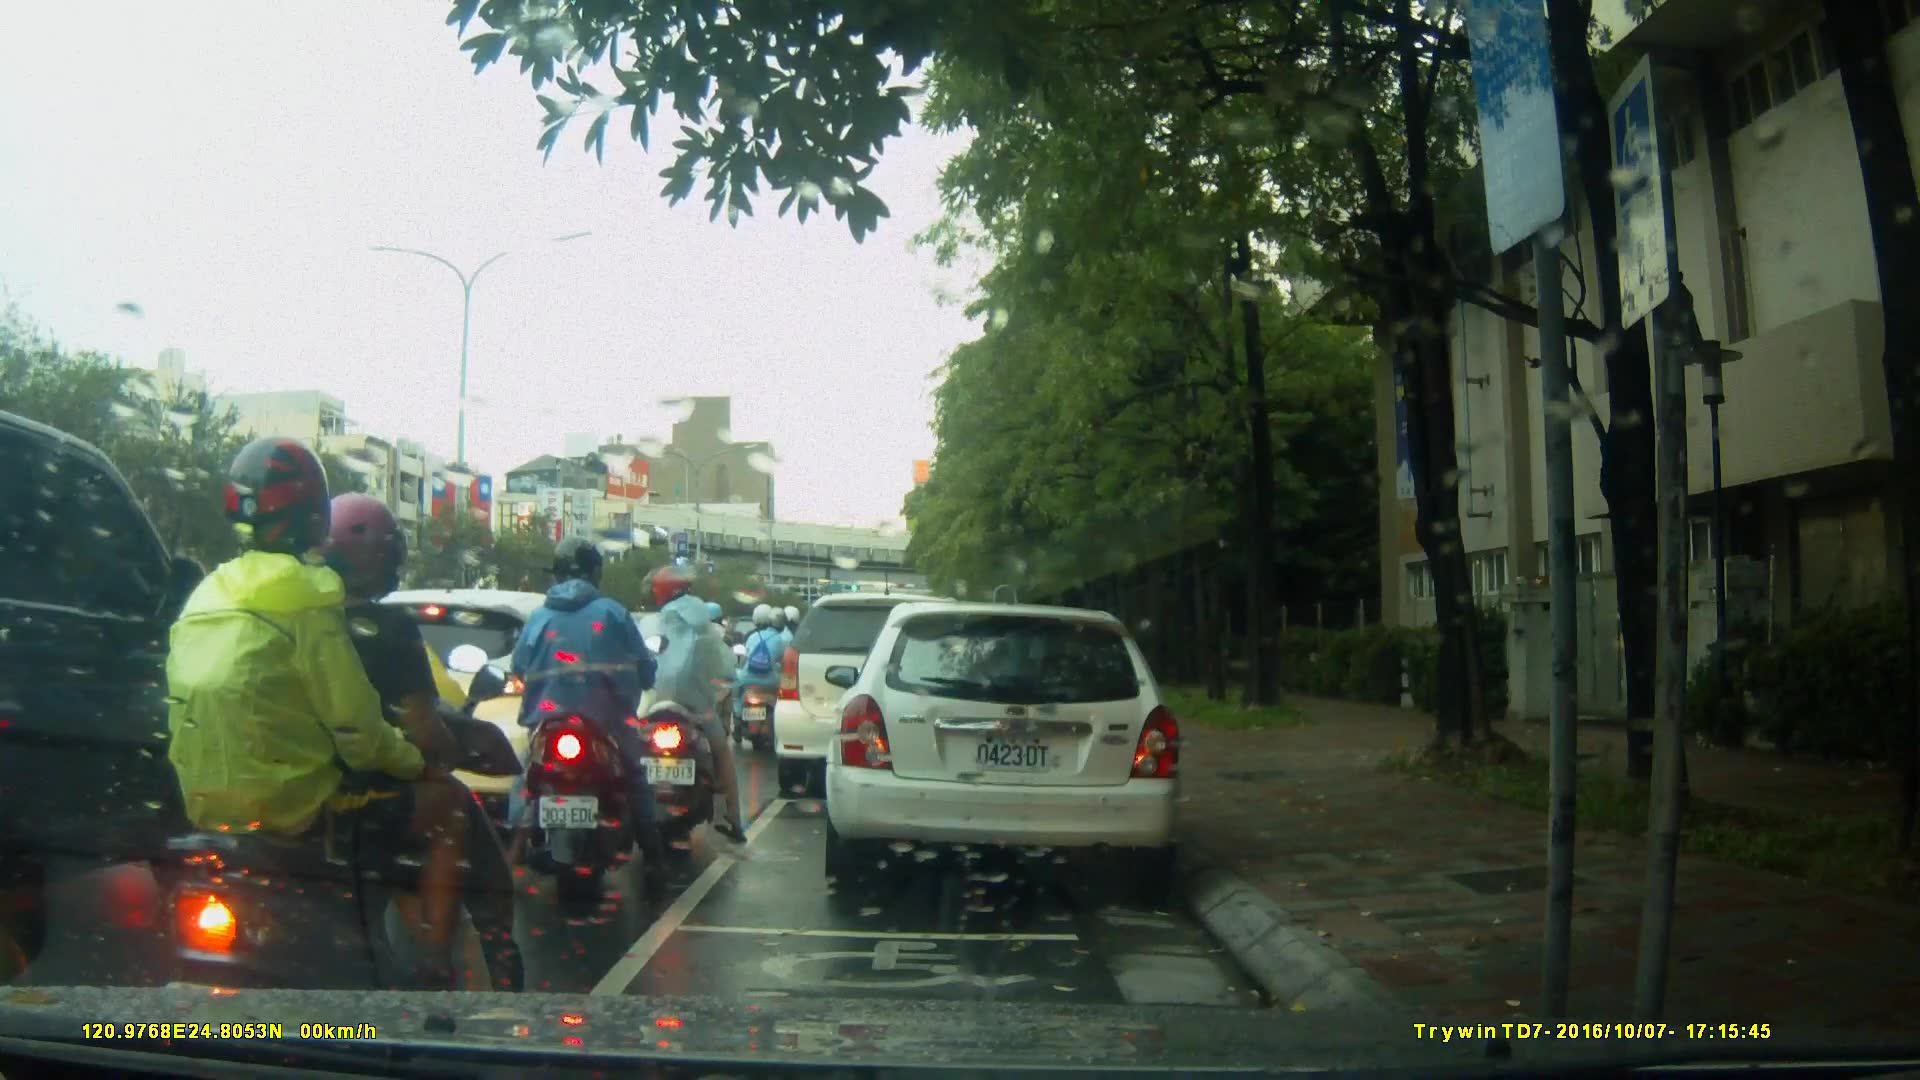rider: (154, 441, 525, 1071), (275, 536, 512, 991), (511, 542, 676, 890), (625, 568, 742, 825), (678, 603, 741, 762), (760, 605, 809, 729)
vehicle: (1, 402, 281, 987), (822, 604, 1188, 883), (288, 583, 630, 832), (774, 595, 995, 802)
